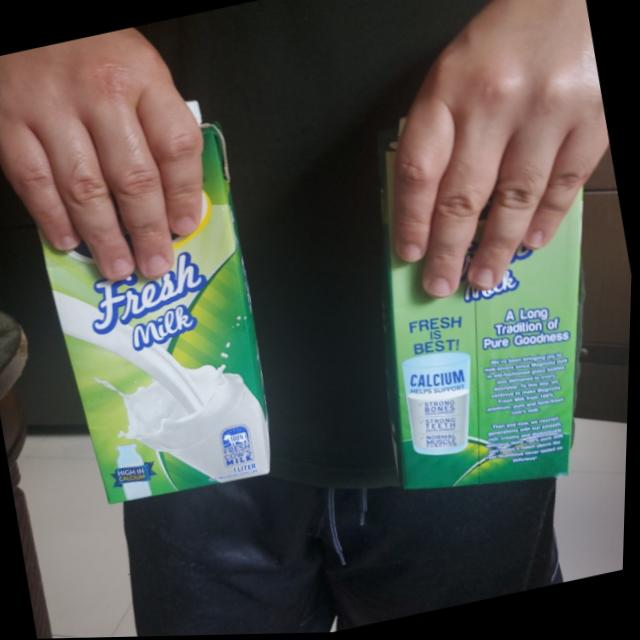milk: (335, 84, 638, 519), (10, 91, 292, 517)
